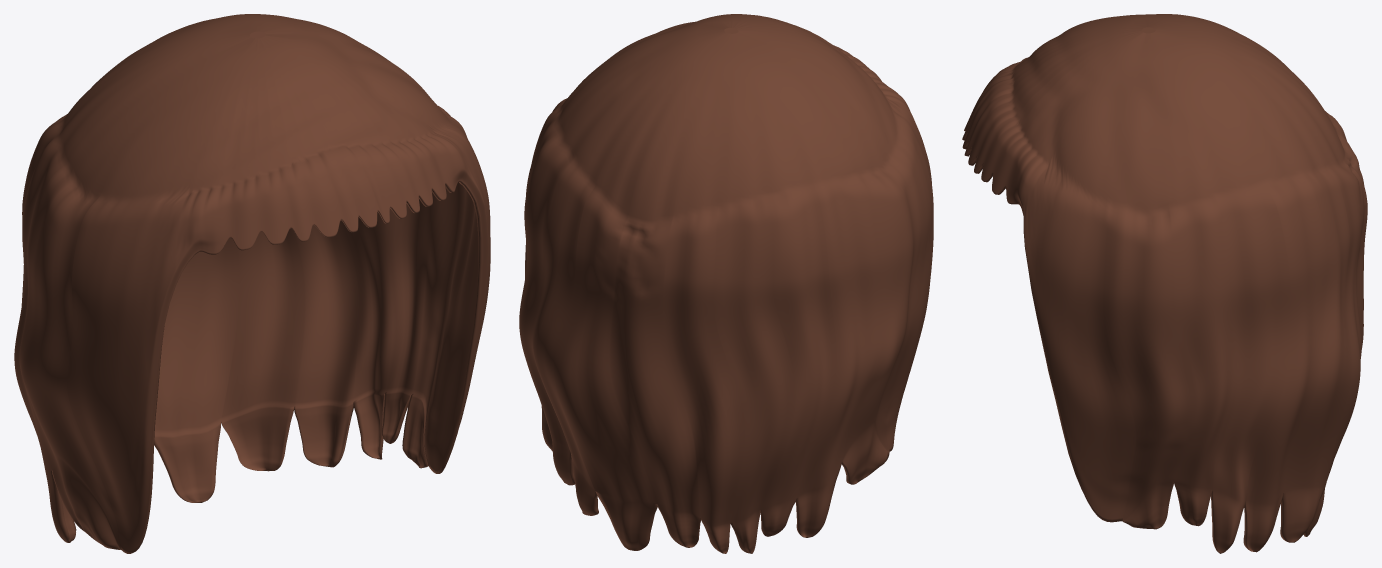
File: long-headband.glb
The picture shows the model from 3 angles, left to right: view 1: azimuth 30°, elevation 25°; view 2: azimuth 150°, elevation 25°; view 3: azimuth 270°, elevation 25°; orthographic projection. The views are drawn at different scales.
Parts seen in each view (by area): view 1: Hair / rounded long fringe; view 2: Hair / rounded long fringe; view 3: Hair / rounded long fringe.
Boxes of the visible parts, box(x1,y1,x2,y2) form: Hair / rounded long fringe: box(14, 14, 490, 553); Hair / rounded long fringe: box(519, 14, 933, 553); Hair / rounded long fringe: box(962, 14, 1367, 553).
Size of the model in its own units: 0.8534 by 1.04 by 0.7794.
